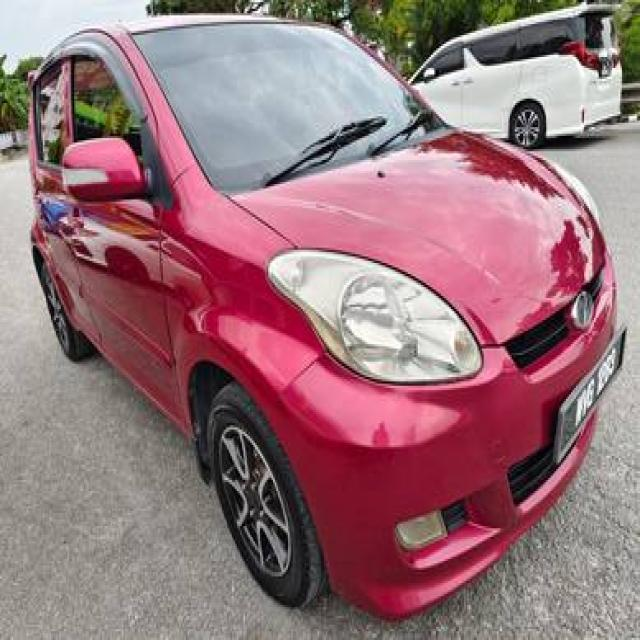PeroduaMyvi: (25, 8, 627, 620)
